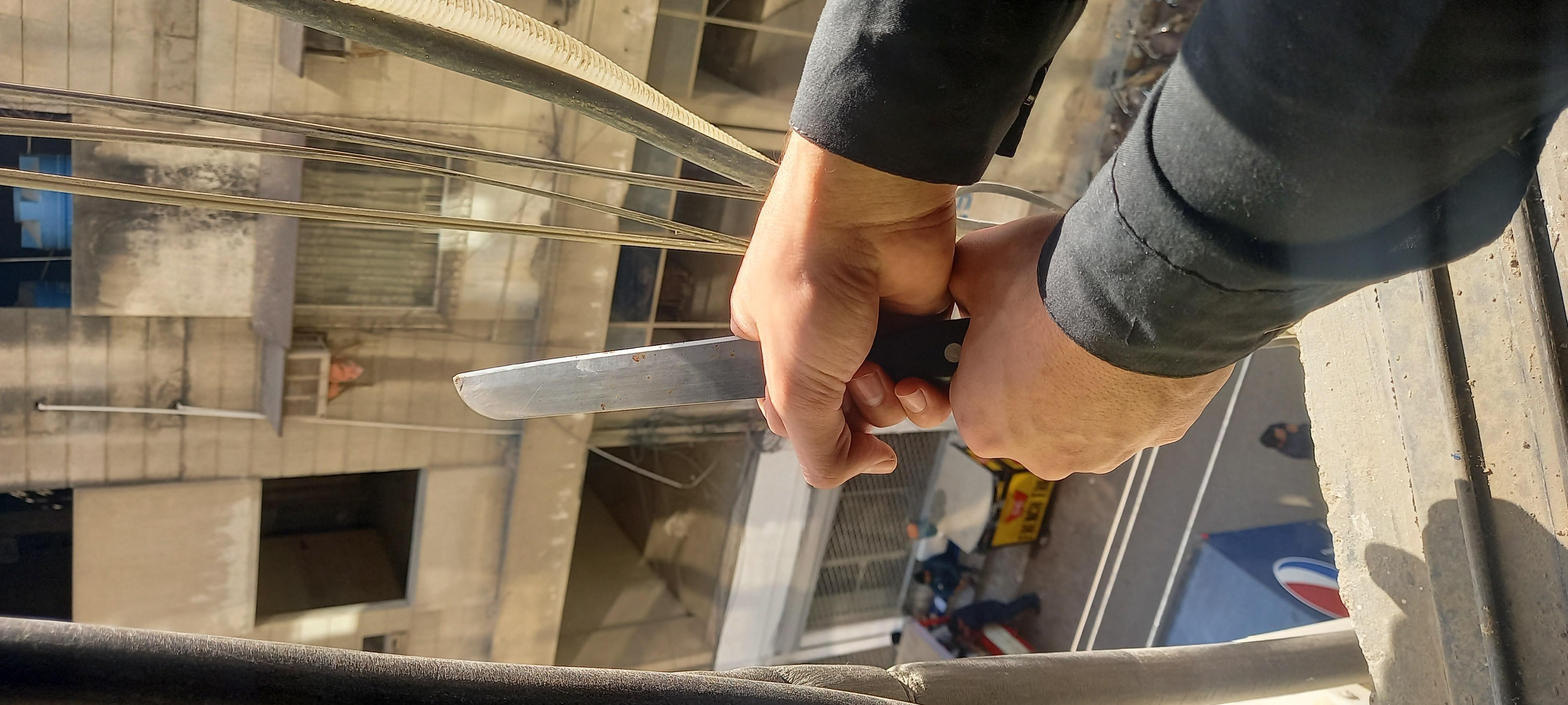knives: (579, 193, 913, 443)
